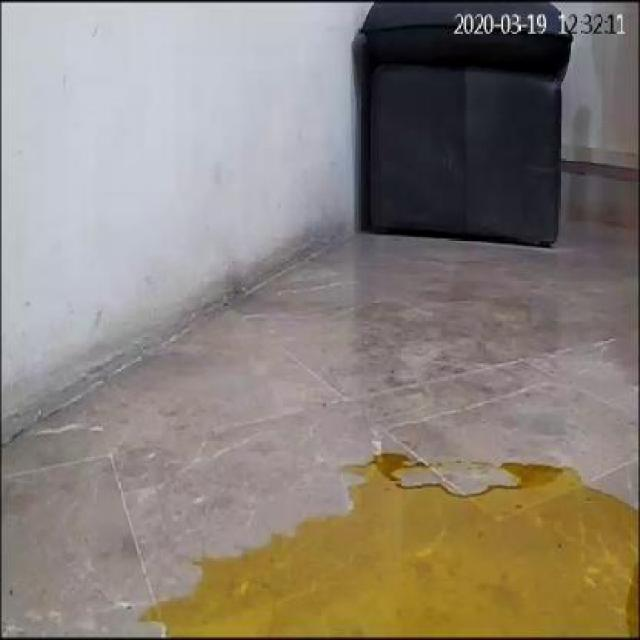spill: (146, 452, 639, 636)
